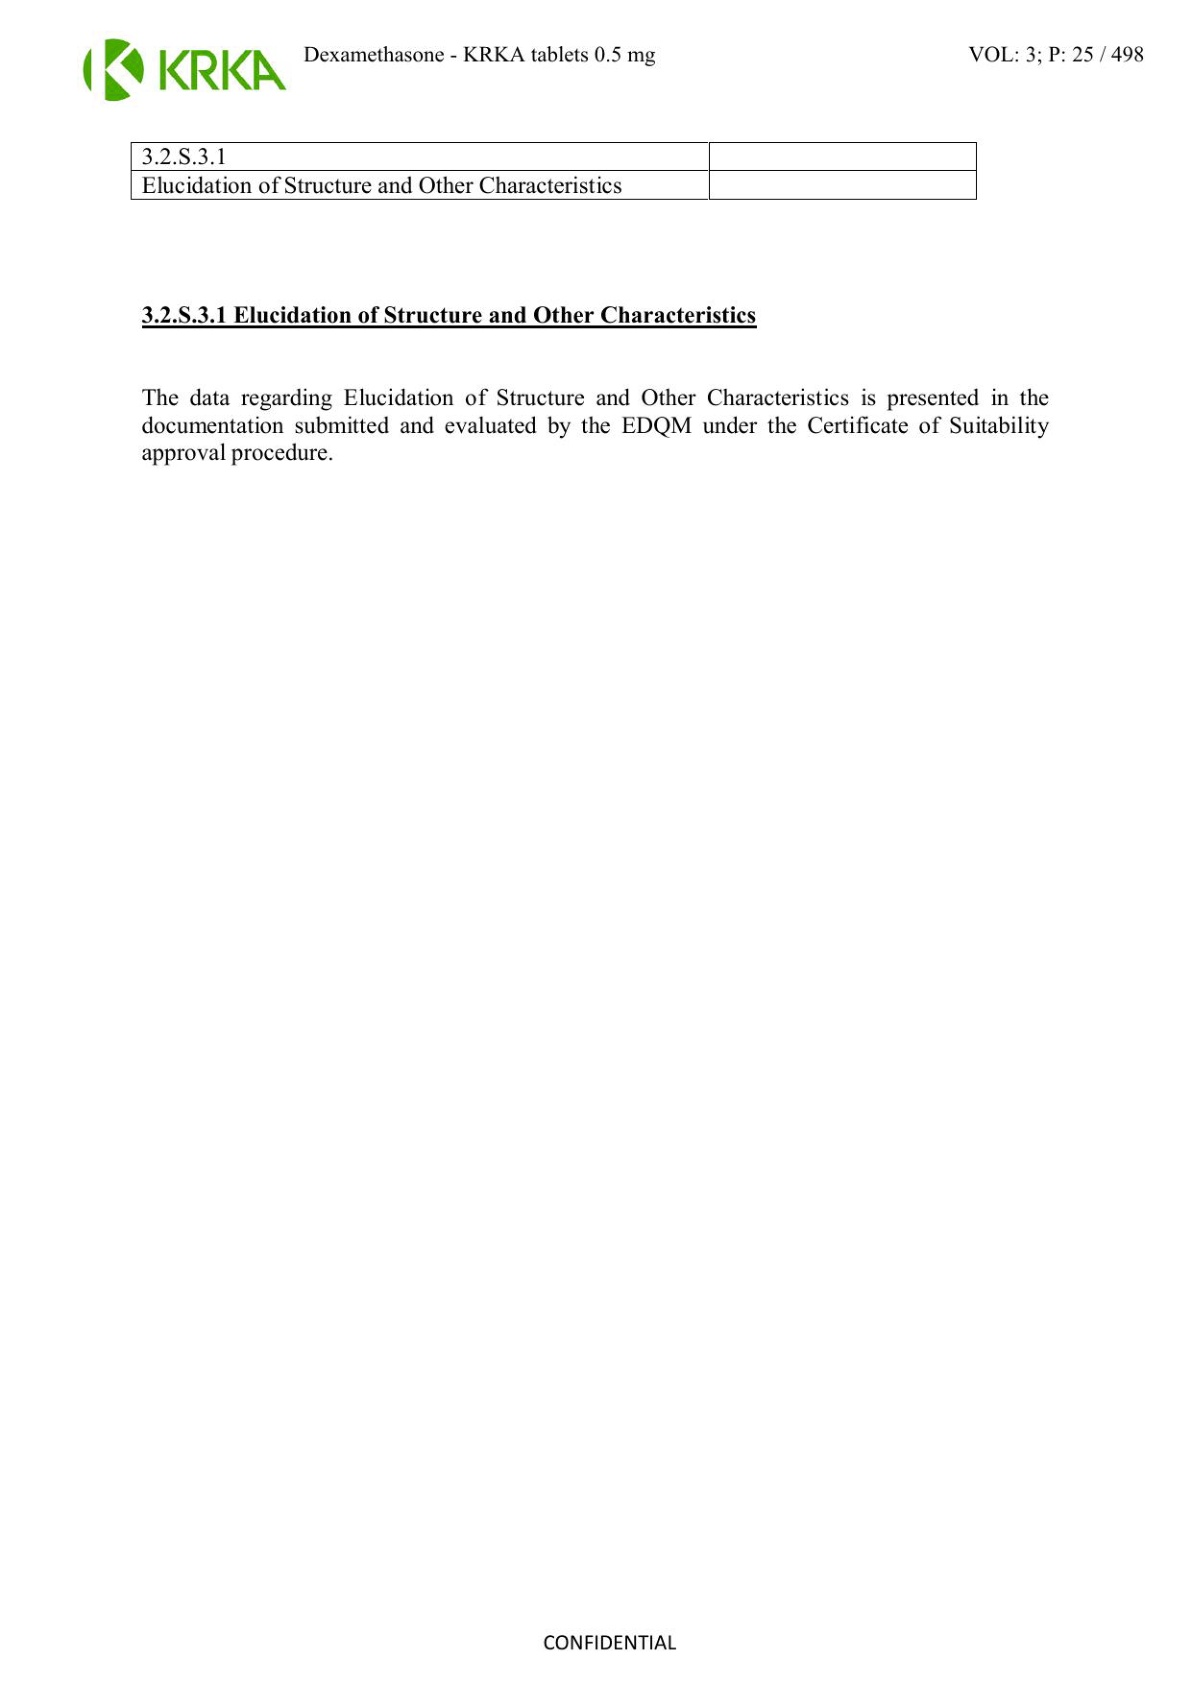full_lined: (129, 141, 977, 201)
